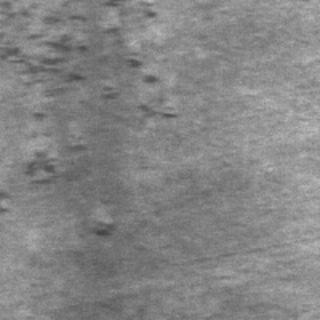rolled pit: (0, 3, 162, 108), (0, 140, 110, 230)
